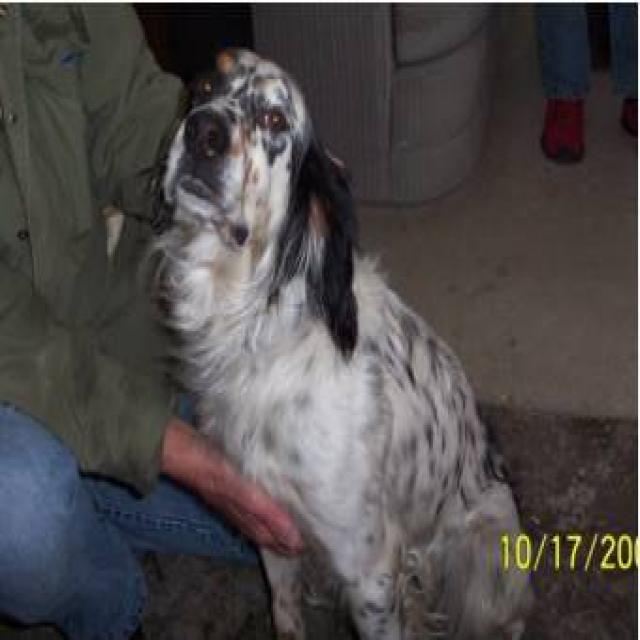dog: (141, 45, 537, 638)
